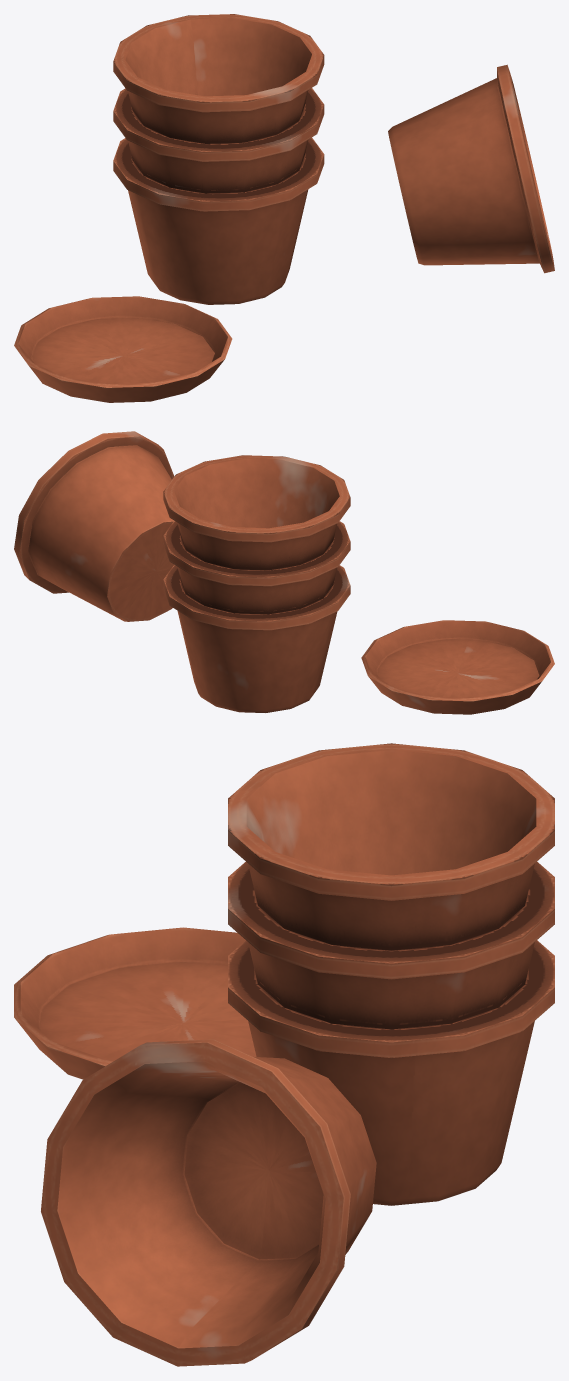
File: Pots_Stack_01.fbx
3 views of the same model, one above another, from view 1: azimuth 30°, elevation 25°; view 2: azimuth 150°, elevation 25°; view 3: azimuth 270°, elevation 25° (orthographic). The views are drawn at different scales.
Parts seen in each view (by area): view 1: Pots_Stack_01; view 2: Pots_Stack_01; view 3: Pots_Stack_01.
Boxes of the visible parts, bbox=[...] form: Pots_Stack_01: bbox=[14, 14, 554, 402]; Pots_Stack_01: bbox=[14, 431, 554, 714]; Pots_Stack_01: bbox=[14, 743, 554, 1366].
Size of the model in its own units: 0.577 by 0.223 by 0.3117.
1 material, 1 textured.
